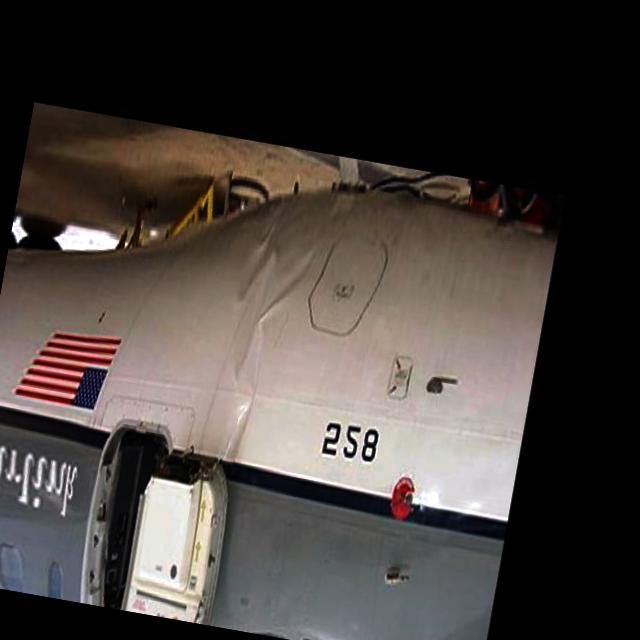dent: (200, 195, 326, 472)
